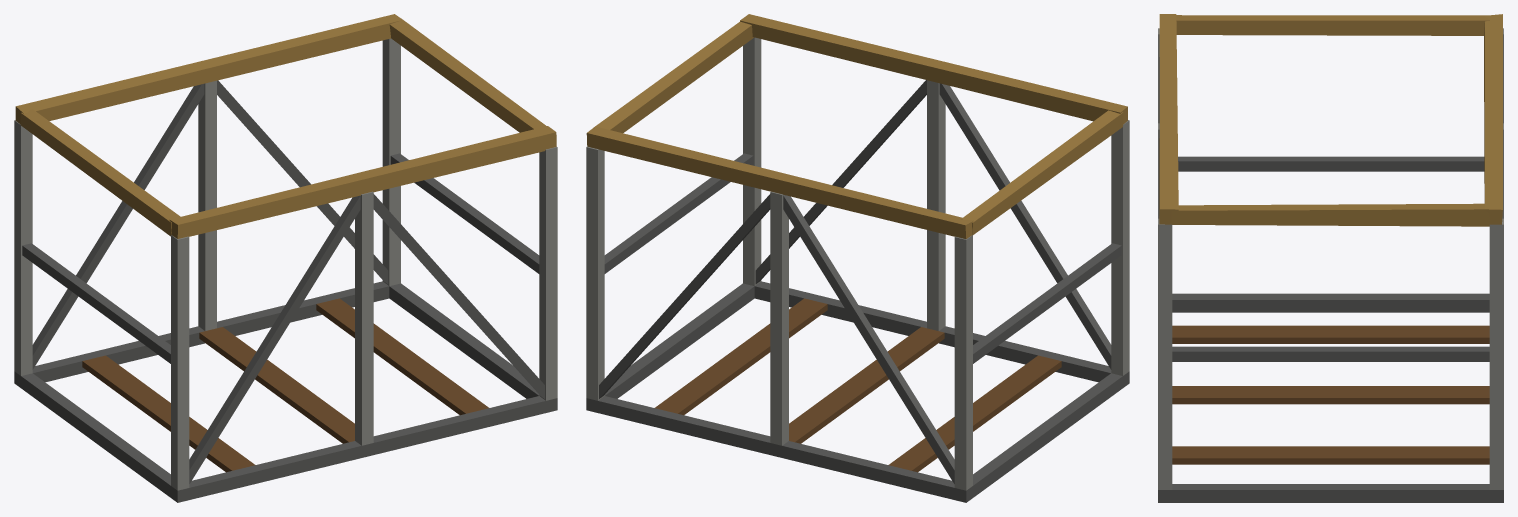
The model's file is cargo_light_frame.glb.
3 renders of one model, left to right at view 1: azimuth 30°, elevation 25°; view 2: azimuth 150°, elevation 25°; view 3: azimuth 270°, elevation 25°, orthographic. The views are drawn at different scales.
Visible parts, largest first — view 1: cargo_light_frame; view 2: cargo_light_frame; view 3: cargo_light_frame.
Part boxes in pixels (left/top/right/bottom): cargo_light_frame: left=14, top=14, right=557, bottom=502; cargo_light_frame: left=586, top=14, right=1129, bottom=502; cargo_light_frame: left=1158, top=14, right=1503, bottom=502.
Size of the model in its own units: 1.3 by 0.907 by 0.968.
